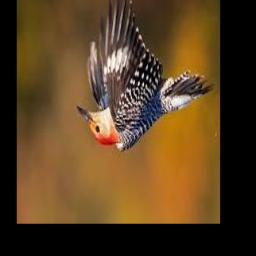Woodpecker: (76, 0, 214, 152)
